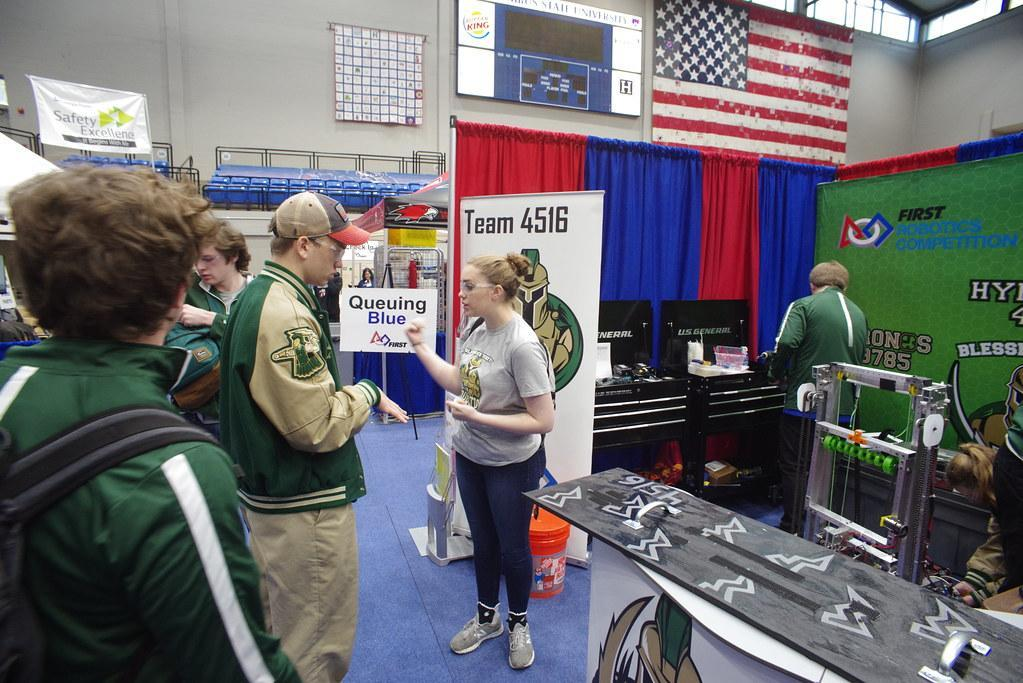robot: (786, 347, 950, 620)
